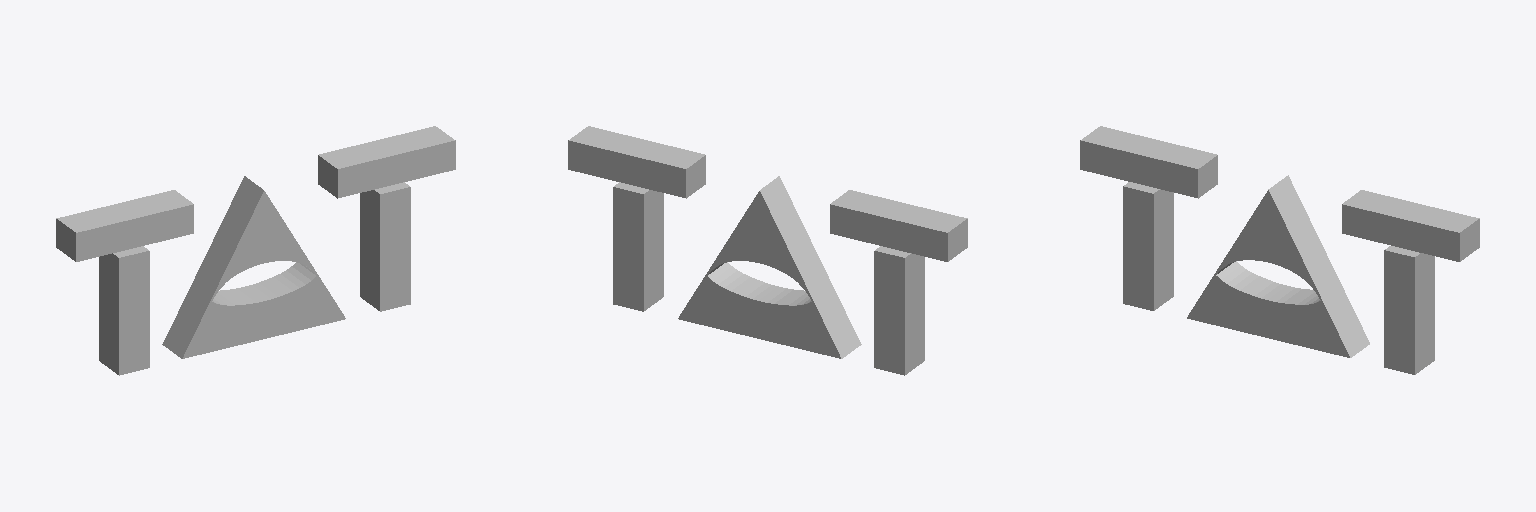
Rendered from tat.obj.
3 views of the same model, side by side, from view 1: azimuth 30°, elevation 25°; view 2: azimuth 150°, elevation 25°; view 3: azimuth 330°, elevation 25° (orthographic).
Parts seen in each view (by area): view 1: tat; view 2: tat; view 3: tat.
Boxes of the visible parts, x1,y1,x2,y2 form: tat: [56, 126, 455, 375]; tat: [568, 126, 967, 375]; tat: [1080, 126, 1479, 374].
Size of the model in its own units: 0.9928 by 0.3829 by 0.09.